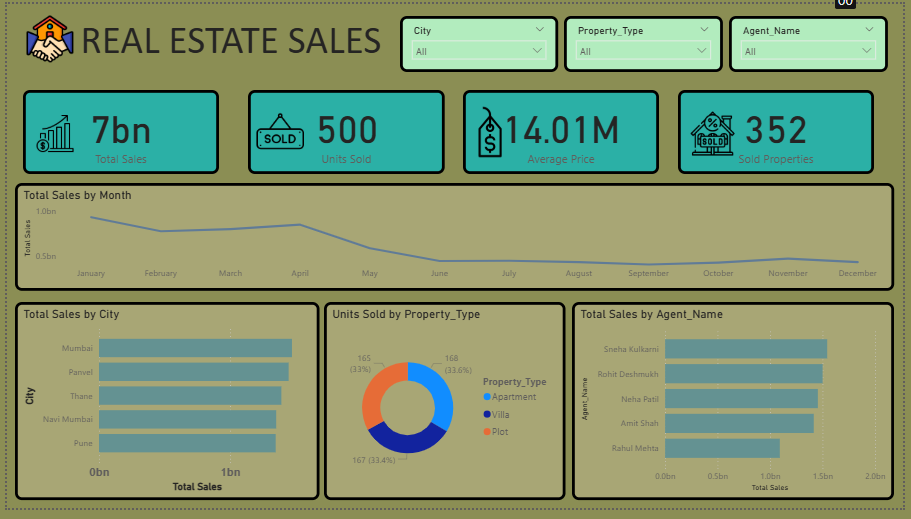

The page's visual inventory and layout, read from the dashboard file:
{"tool":"powerbi","page":{"name":"Page 1","canvas":[1280,720],"ordinal":0},"visuals":[{"type":"card","fields":{"Values":["Real Estate.Total Sales"]},"box":[23.3,123.3,280,120],"z":0},{"type":"card","fields":{"Values":["Real Estate.Units Sold"]},"box":[344.3,122.9,281.4,120],"z":1000},{"type":"card","fields":{"Values":["Real Estate.Average Price"]},"box":[651.7,123.3,280,120],"z":2000},{"type":"textbox","box":[100,11.4,440,87.1],"z":3000},{"type":"slicer","fields":{"Values":["Real Estate.City"]},"box":[560.9,17.1,226,80],"z":4000},{"type":"slicer","fields":{"Values":["Real Estate.Property_Type"]},"box":[795.9,17.1,226.7,80],"z":5000},{"type":"slicer","fields":{"Values":["Real Estate.Agent_Name"]},"box":[1030.9,17.1,226.7,80],"z":6000},{"type":"image","box":[37.2,148.6,63.3,72.9],"z":7000},{"type":"card","fields":{"Values":["Real Estate.Sold Properties"]},"box":[958.3,123.3,280,120],"z":8000},{"type":"image","box":[335,143.3,111.7,78.3],"z":9000},{"type":"image","box":[626.7,133.3,125,100],"z":10000},{"type":"image","box":[958.3,148.3,98.3,73.3],"z":11000},{"type":"lineChart","fields":{"Category":["Real Estate.Sale_Date.Variation.Date Hierarchy.Month"],"Y":["Real Estate.Total Sales"]},"box":[11.4,255.7,1255.7,154.3],"z":12000},{"type":"barChart","fields":{"Category":["Real Estate.City"],"Y":["Real Estate.Total Sales"]},"box":[11.7,425,435,283.3],"z":13000},{"type":"donutChart","fields":{"Category":["Real Estate.Property_Type"],"Y":["Real Estate.Units Sold"]},"box":[453.3,425,345,283.3],"z":14000},{"type":"barChart","fields":{"Category":["Real Estate.Agent_Name"],"Y":["Real Estate.Total Sales"]},"box":[807.1,425.7,460,282.9],"z":15000},{"type":"image","box":[22.9,11.4,77.1,77.1],"z":16000}]}

Visuals, with their boxes in screenshot pixels (x1, y1, x2, y2), scaled from the page's 1280x720 canvas onto the 911x519 screenshot:
card - Real Estate.Total Sales: detection(17, 89, 216, 175)
card - Real Estate.Units Sold: detection(245, 89, 445, 175)
card - Real Estate.Average Price: detection(464, 89, 663, 175)
textbox: detection(71, 8, 384, 71)
slicer - Real Estate.City: detection(399, 12, 560, 70)
slicer - Real Estate.Property_Type: detection(566, 12, 728, 70)
slicer - Real Estate.Agent_Name: detection(734, 12, 895, 70)
image: detection(26, 107, 72, 160)
card - Real Estate.Sold Properties: detection(682, 89, 881, 175)
image: detection(238, 103, 318, 160)
image: detection(446, 96, 535, 168)
image: detection(682, 107, 752, 160)
lineChart - Real Estate.Sale_Date.Variation.Date Hierarchy.Month x Real Estate.Total Sales: detection(8, 184, 902, 296)
barChart - Real Estate.City x Real Estate.Total Sales: detection(8, 306, 318, 511)
donutChart - Real Estate.Property_Type x Real Estate.Units Sold: detection(323, 306, 568, 511)
barChart - Real Estate.Agent_Name x Real Estate.Total Sales: detection(574, 307, 902, 511)
image: detection(16, 8, 71, 64)
